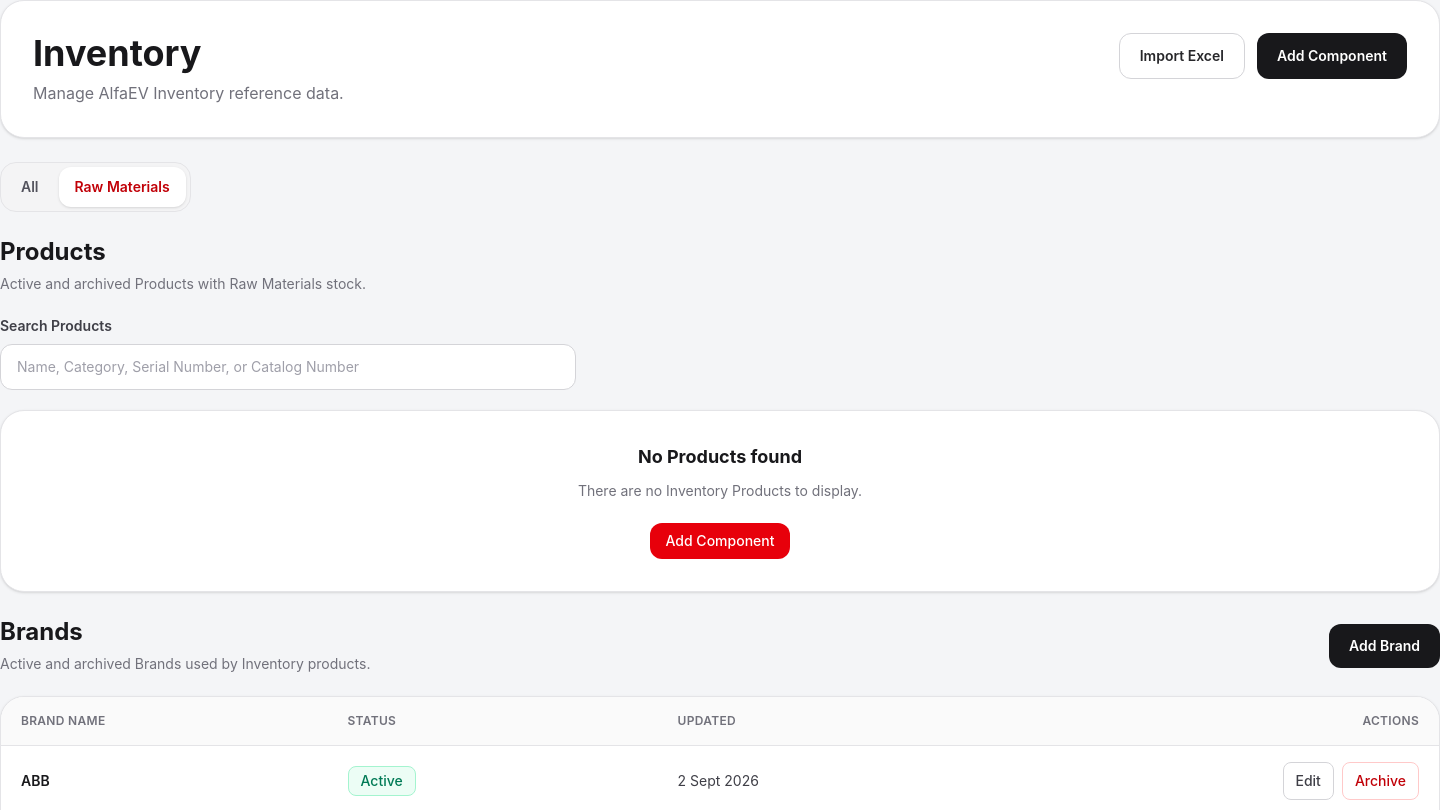
InventoryPage › creates a Component with an active optional Brand and shows its generated Serial
Step 1. Click the 1st button "Add Component" → (1332, 56), box 1257,33 -> 1407,79
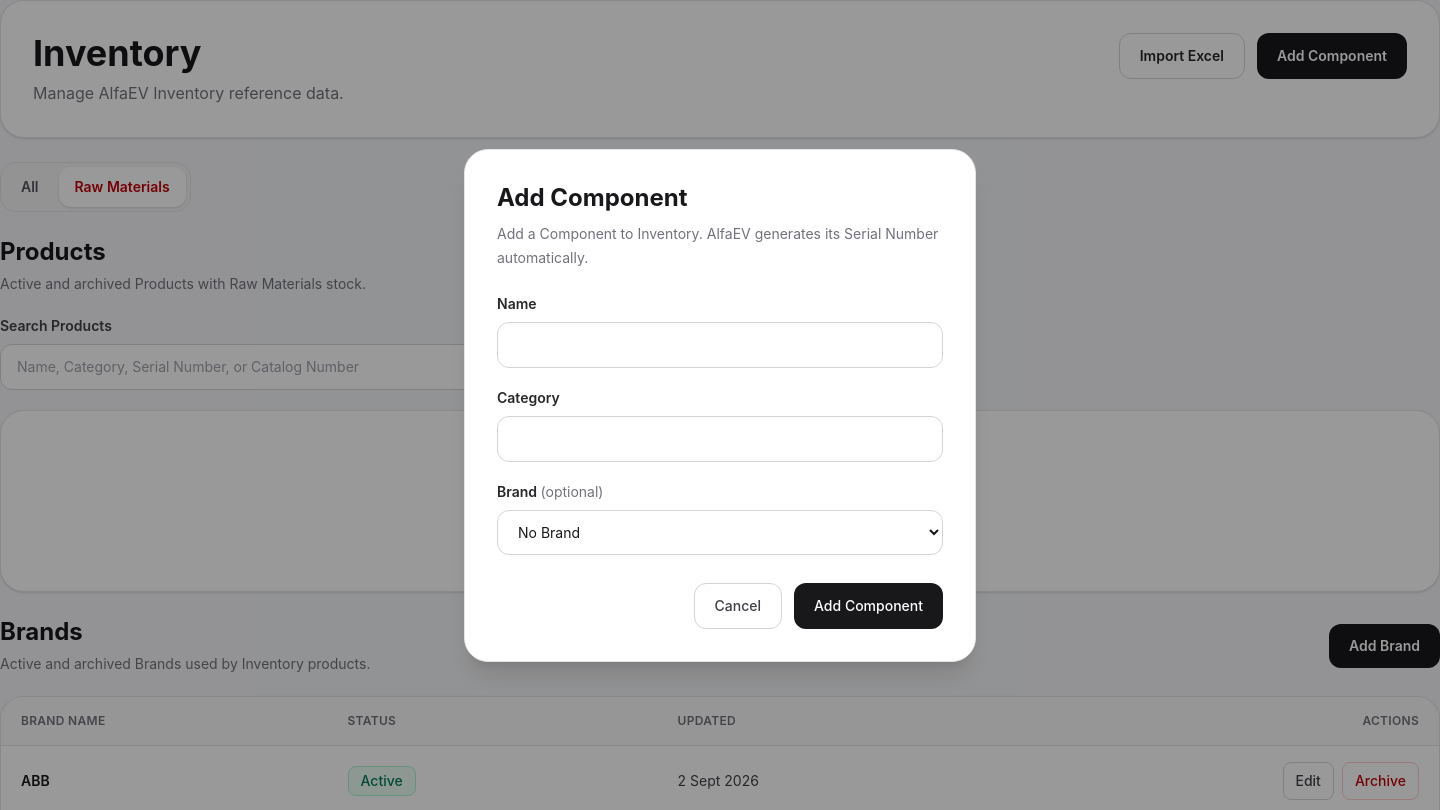
Step 2. Type "  Resistor  " into the field labelled "Name" → (720, 344), box 497,322 -> 943,368
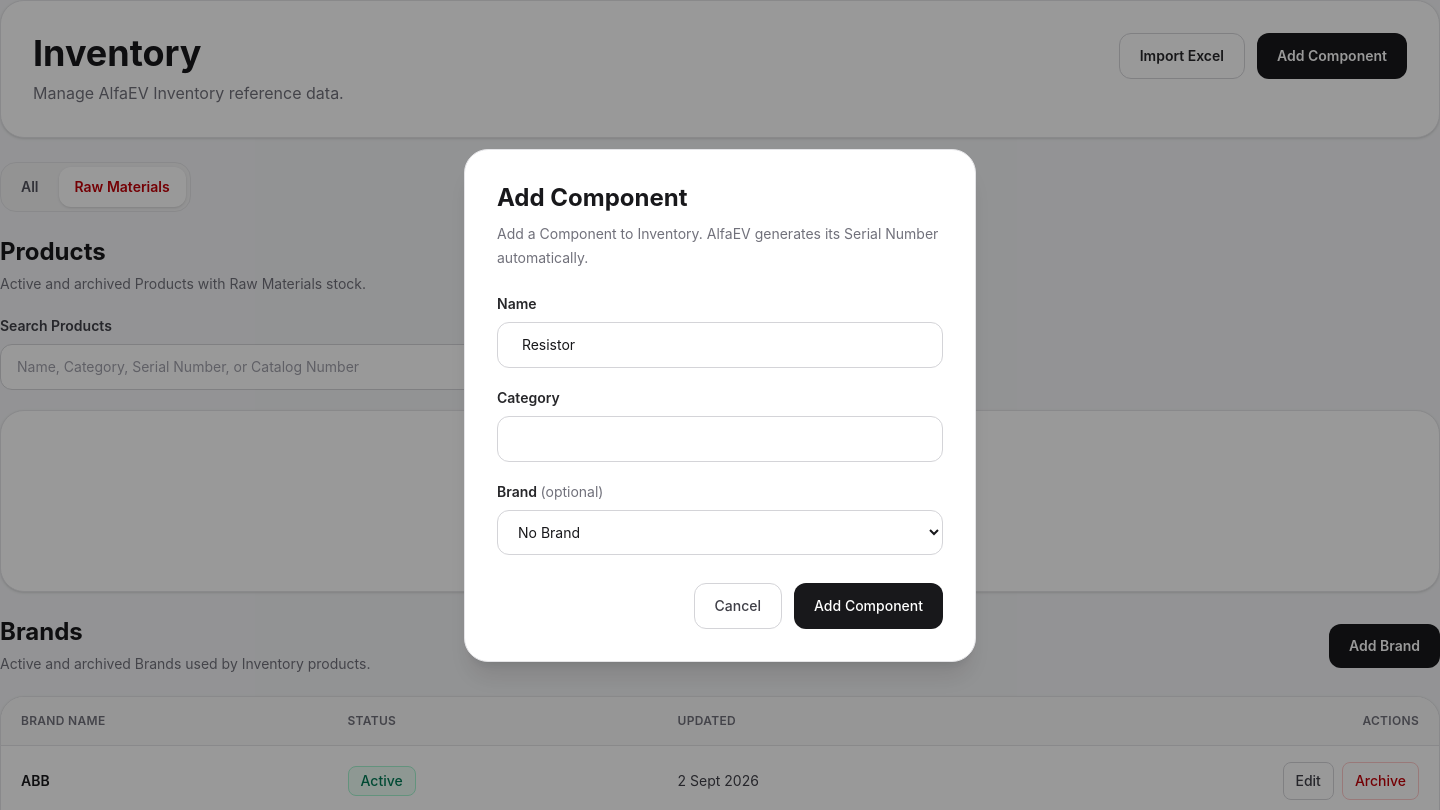
Step 3. Type "  Passive  " into the field labelled "Category" → (720, 438), box 497,416 -> 943,462
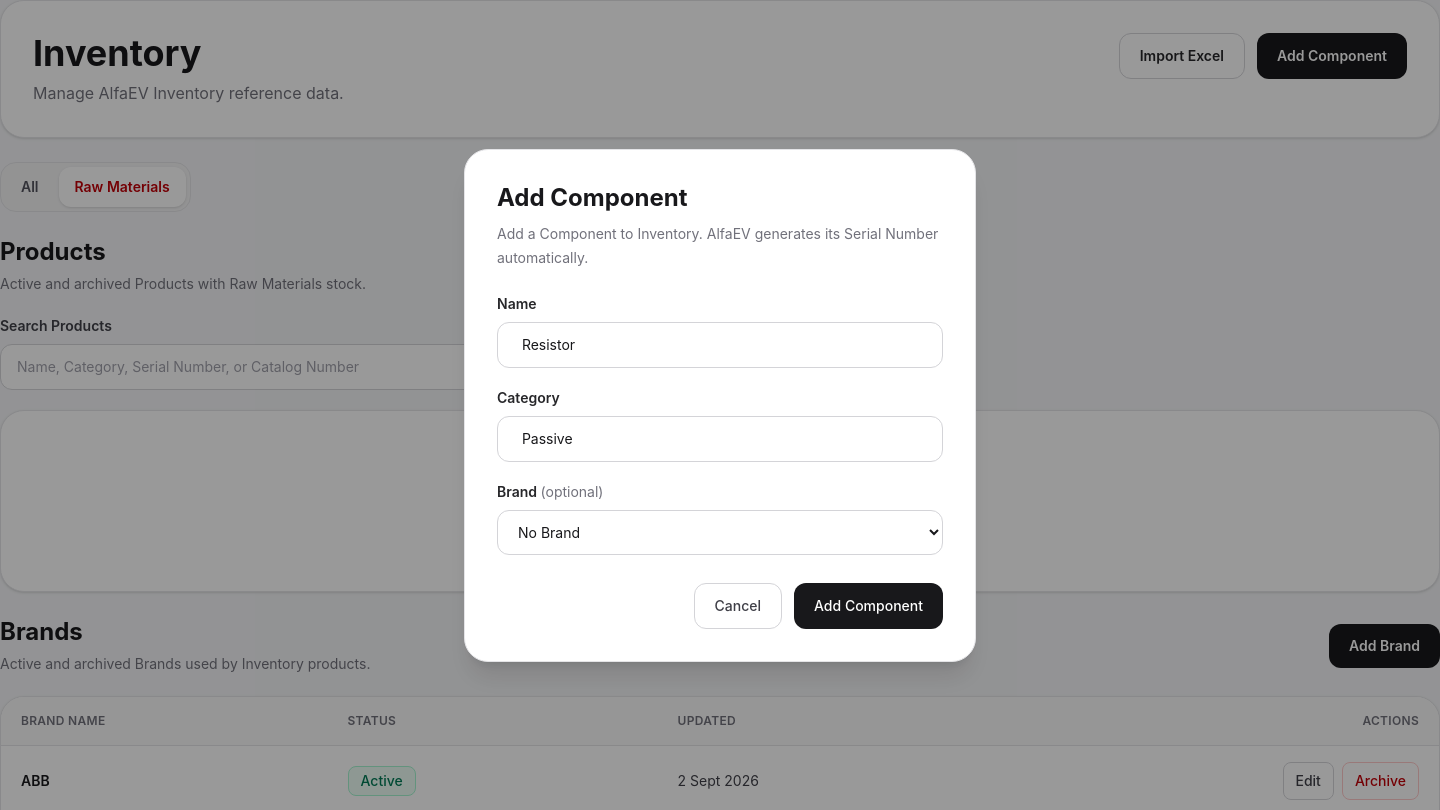
Step 4. Select "ABB" in the dropdown labelled "Brand (optional)" → (720, 532), box 497,510 -> 943,554
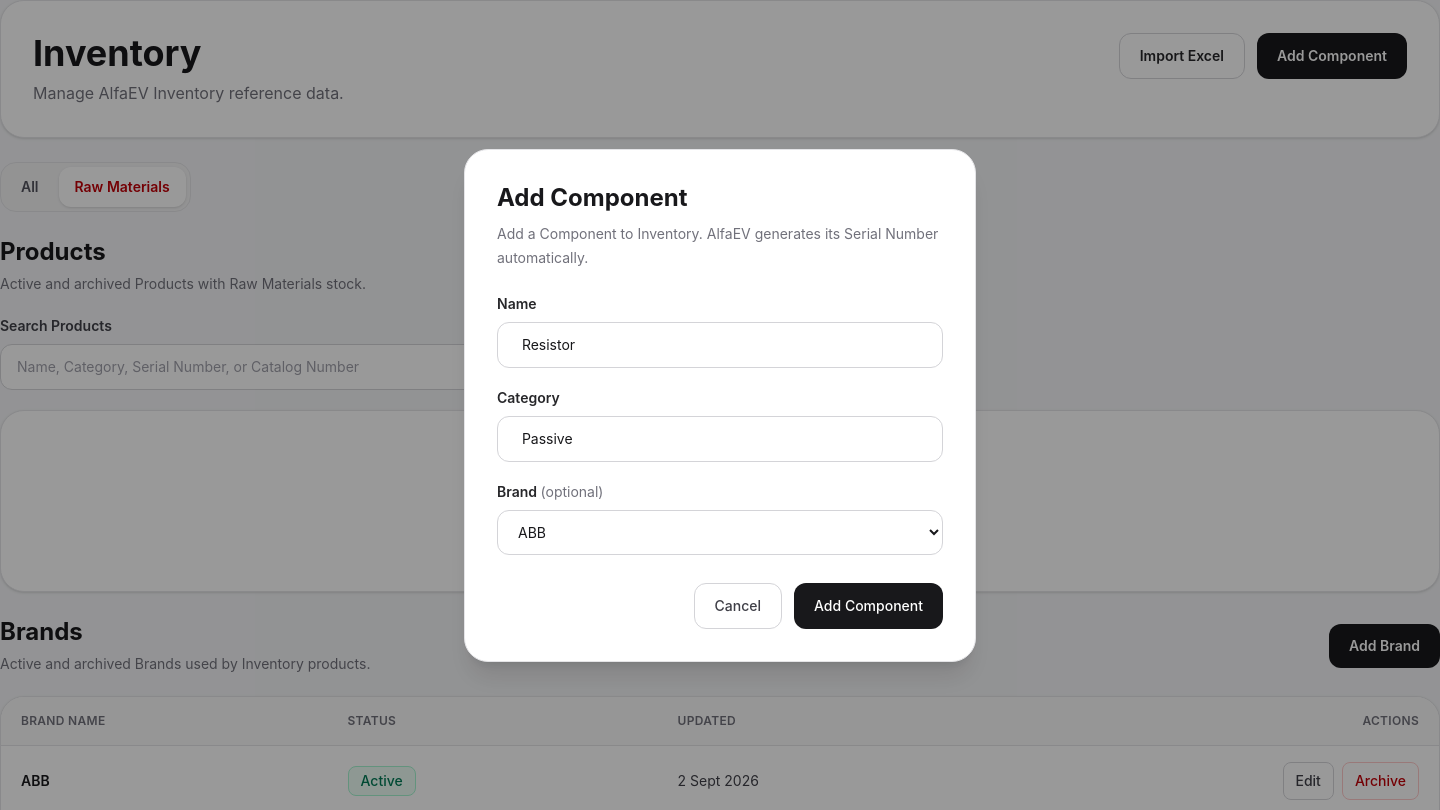
Step 5. Click the button "Add Component" → (868, 606), box 794,582 -> 943,628
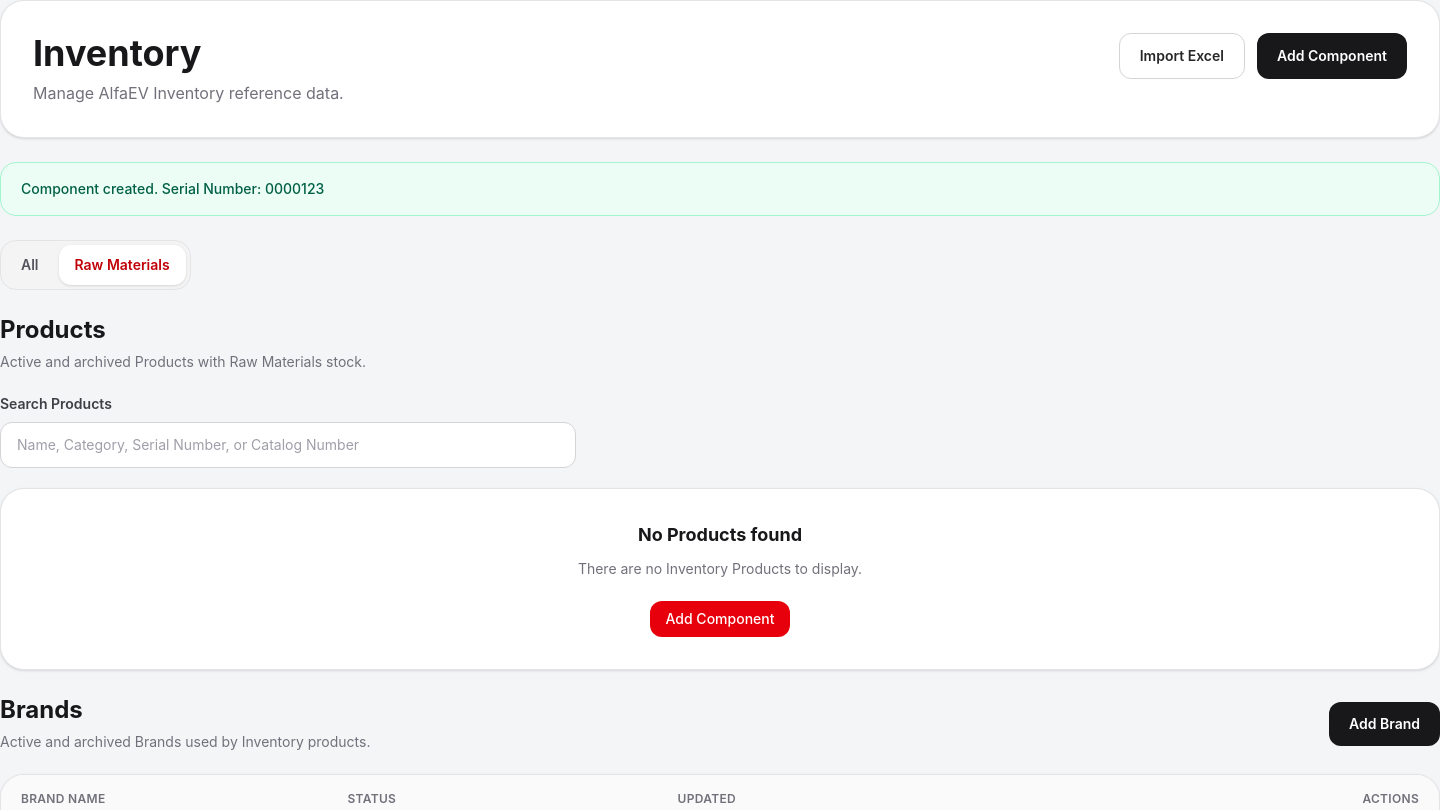
Now the message reads "Component created. Serial Number: 0000123", box 21,180 -> 324,197
